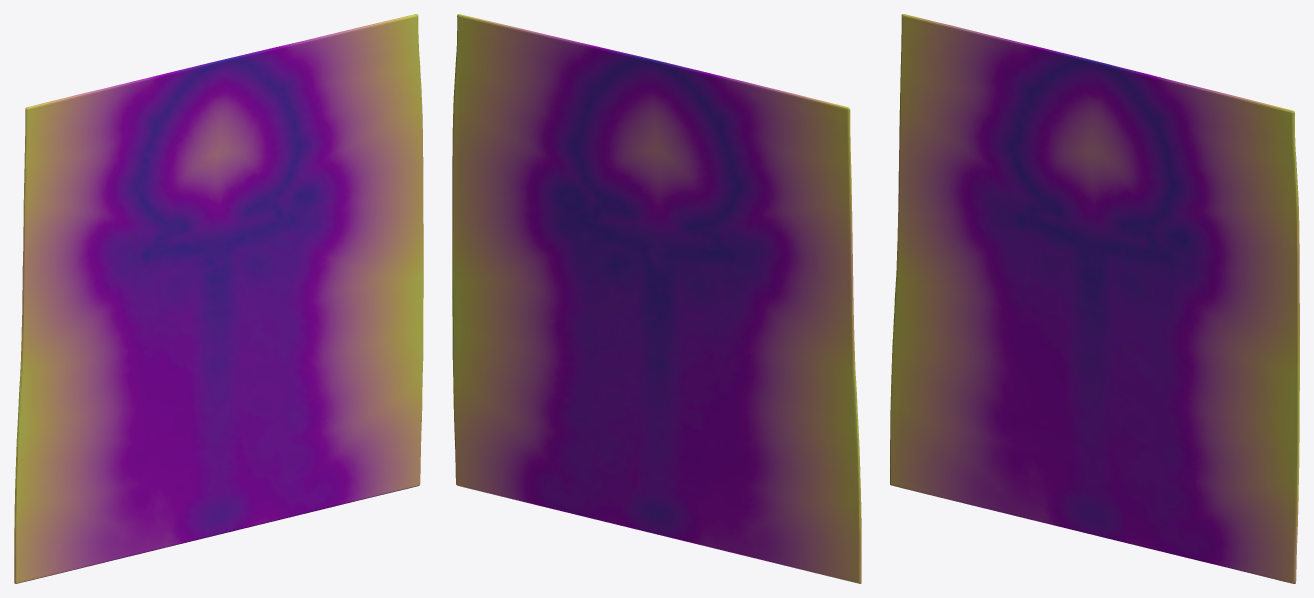
The model's file is iter_15.glb.
The picture shows the model from 3 angles, left to right: view 1: azimuth 30°, elevation 25°; view 2: azimuth 150°, elevation 25°; view 3: azimuth 330°, elevation 25°; orthographic projection.
Visible parts, largest first — view 1: textured_mesh; view 2: textured_mesh; view 3: textured_mesh.
Boxes of the visible parts, x1=… form: textured_mesh: x1=14, y1=14, x2=423, y2=583; textured_mesh: x1=452, y1=14, x2=861, y2=583; textured_mesh: x1=890, y1=14, x2=1299, y2=583.
Bounding box in the file's own units: 1.8 × 1.99 × 0.0157.
